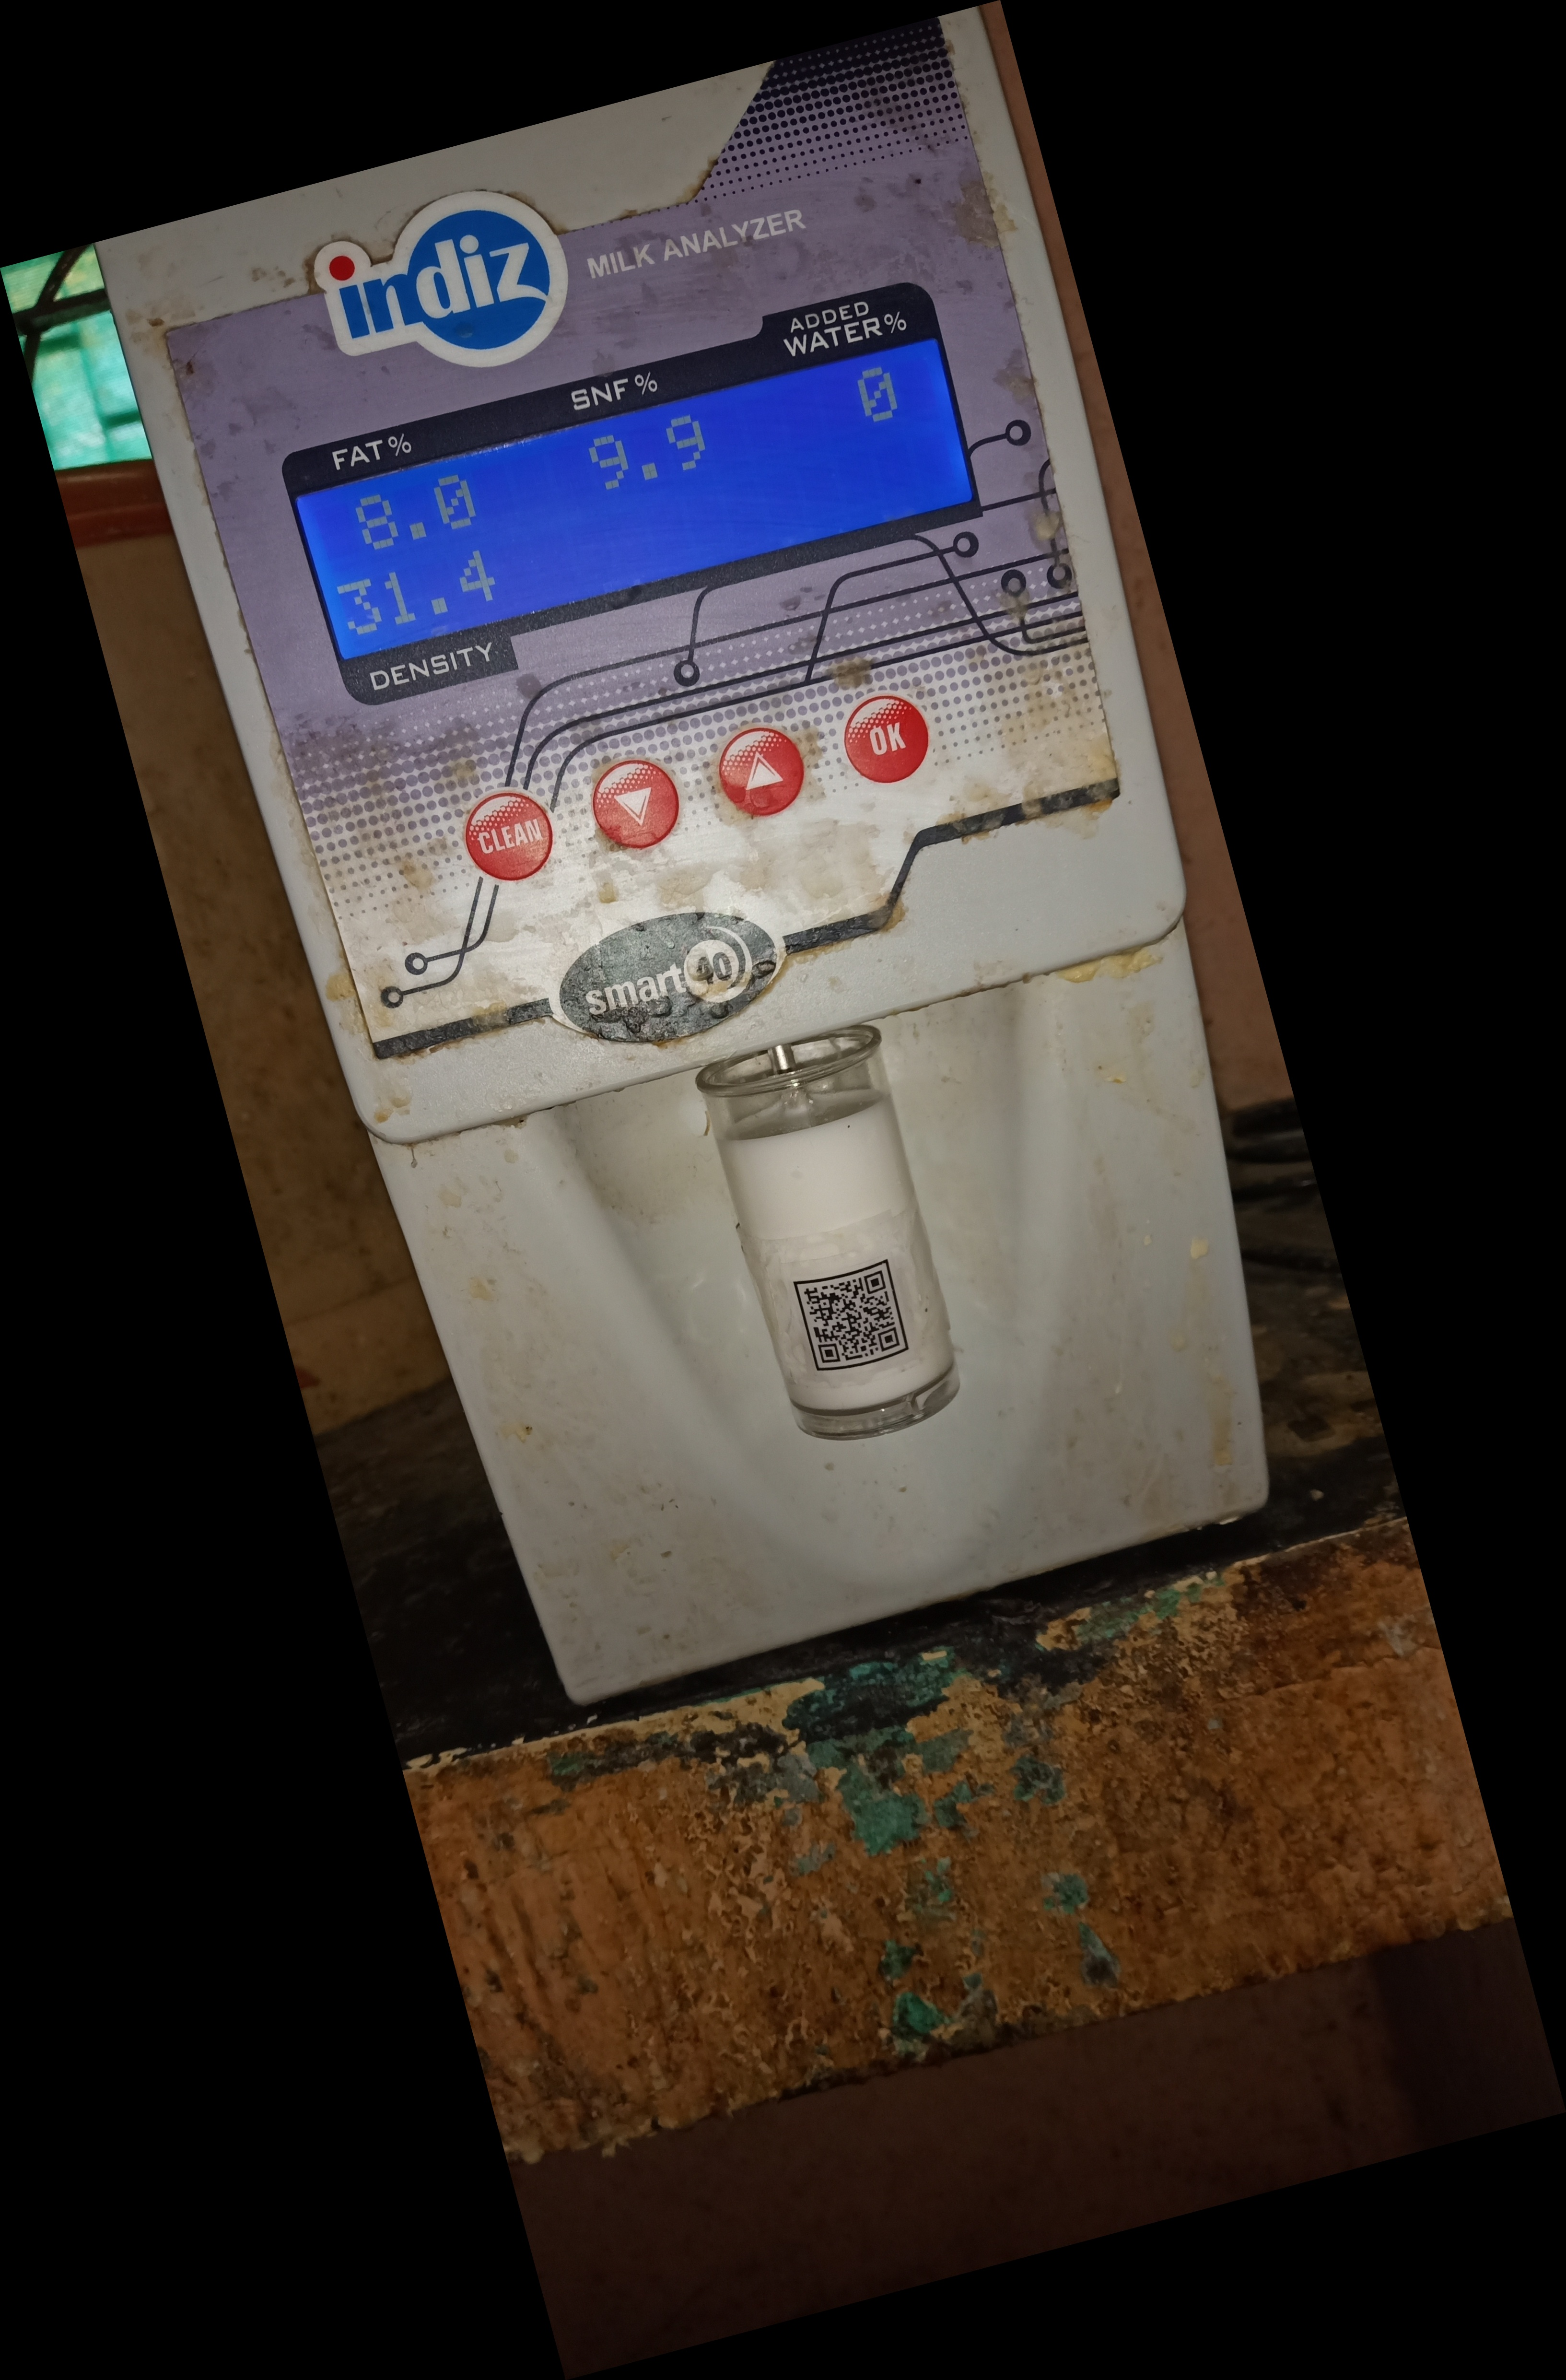lcd: (250, 241, 998, 762)
qr: (795, 1230, 928, 1400)
